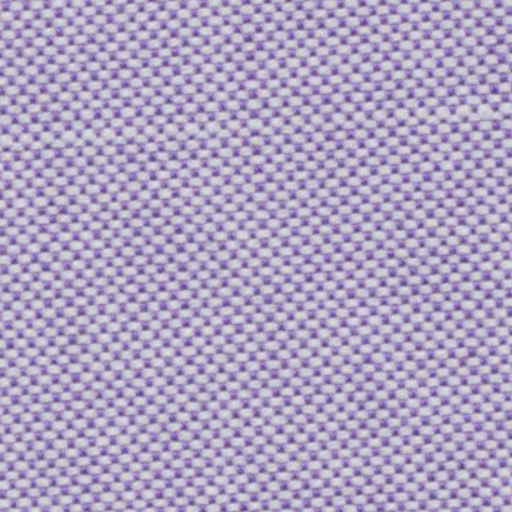TuoSha: (14, 90, 497, 179)
